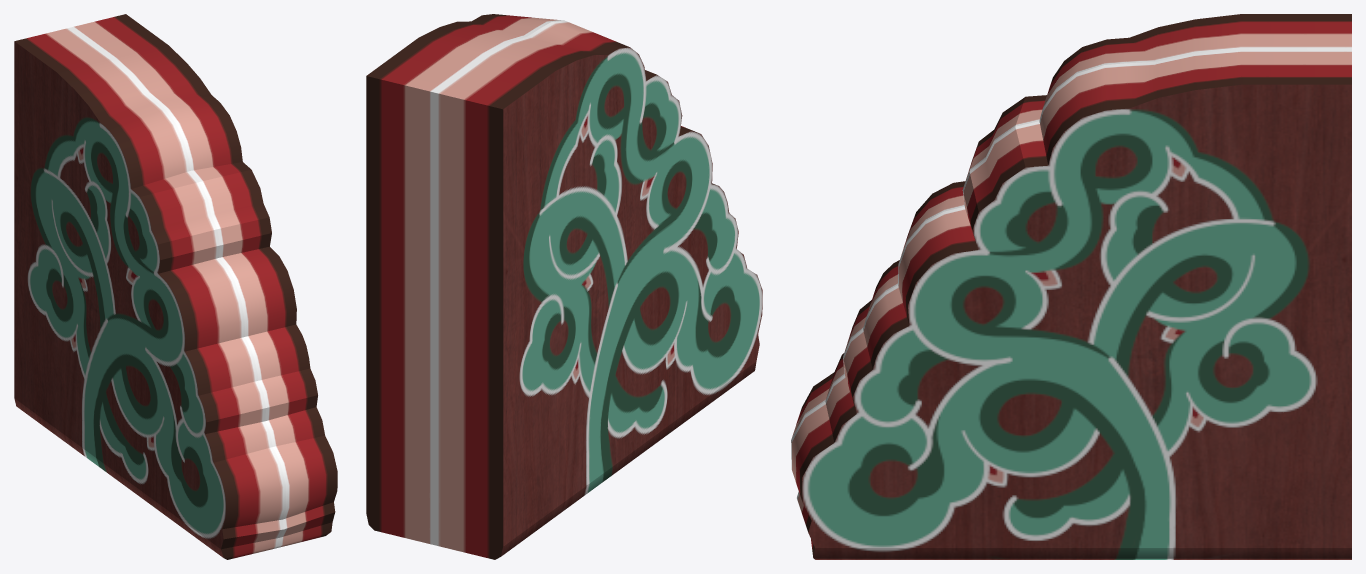
The model's file is SM_Gongpo04U.fbx.
3 renders of one model, left to right at view 1: azimuth 30°, elevation 25°; view 2: azimuth 150°, elevation 25°; view 3: azimuth 270°, elevation 25°, orthographic. The views are drawn at different scales.
Visible parts, largest first — view 1: SM_Gongpo04U; view 2: SM_Gongpo04U; view 3: SM_Gongpo04U.
Part boxes in pixels (x1,y1,x2,y2): SM_Gongpo04U: (14,14,337,559); SM_Gongpo04U: (366,14,762,559); SM_Gongpo04U: (791,14,1351,559).
Size of the model in its own units: 15.29 by 51.21 by 48.31.
